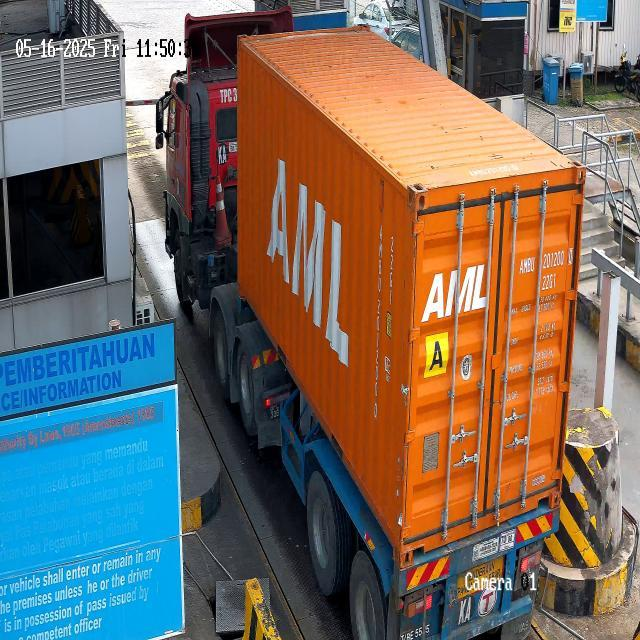ISO: (388, 224, 398, 324), (539, 274, 559, 294)
container_number: (369, 220, 383, 438), (512, 248, 576, 272)
